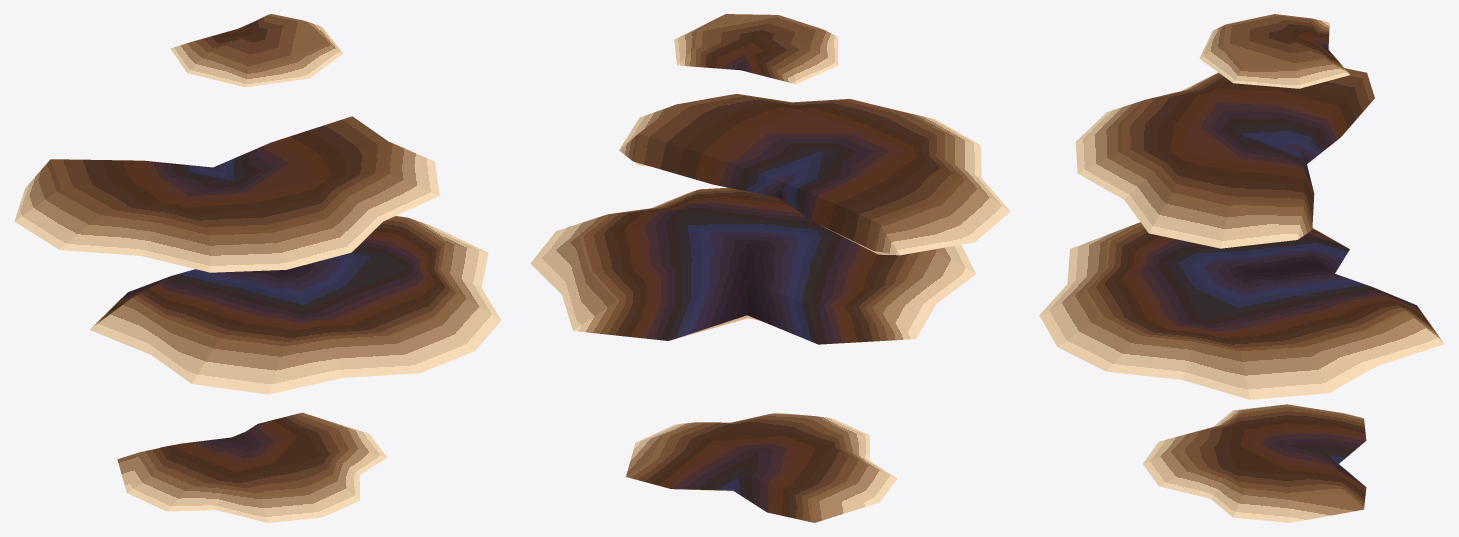
Rendered from TurkeyTail_Bunch.glb.
The picture shows the model from 3 angles, left to right: view 1: azimuth 30°, elevation 25°; view 2: azimuth 150°, elevation 25°; view 3: azimuth 270°, elevation 25°; orthographic projection.
Visible parts, largest first — view 1: largefull; view 2: largefull; view 3: largefull.
Part boxes in pixels (bbox=[...]): largefull: bbox=[14, 14, 501, 522]; largefull: bbox=[530, 14, 1010, 522]; largefull: bbox=[1039, 14, 1444, 522].
Bounding box in the file's own units: 4.95 × 4.72 × 3.92.
Materials: 1 (1 with a texture image).
